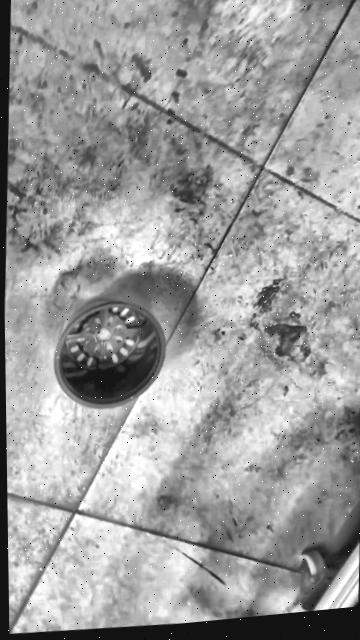pot: (52, 293, 167, 415)
